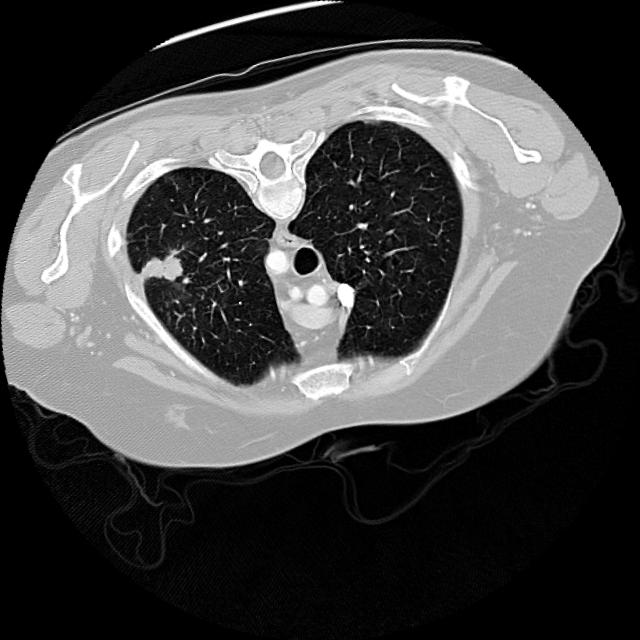nodule: (118, 226, 204, 312)
